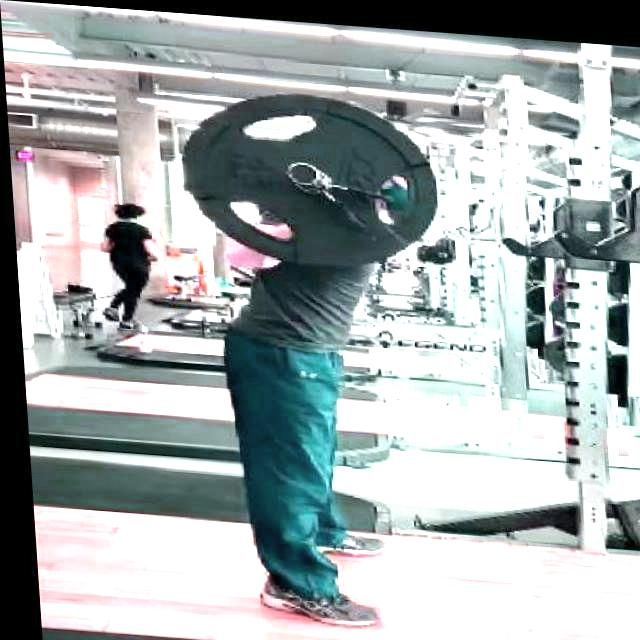barbell: (167, 78, 445, 277)
